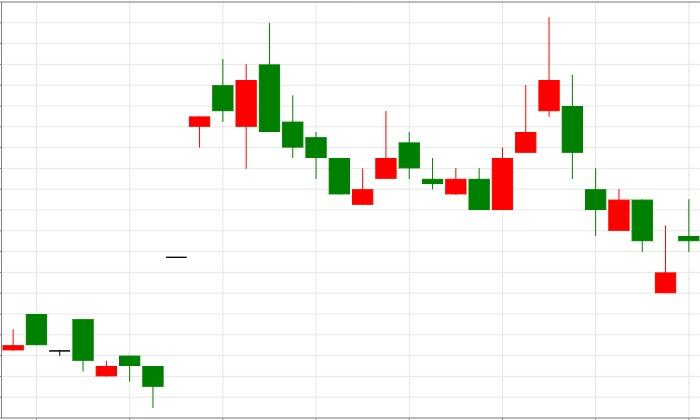inverse_hammer_rise: (561, 74, 677, 294)
shooting_star_fall: (468, 16, 561, 211)
